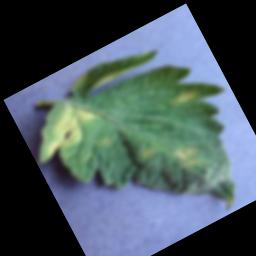Leaf_Mold: (19, 89, 112, 173), (172, 139, 208, 174), (166, 82, 204, 113)
